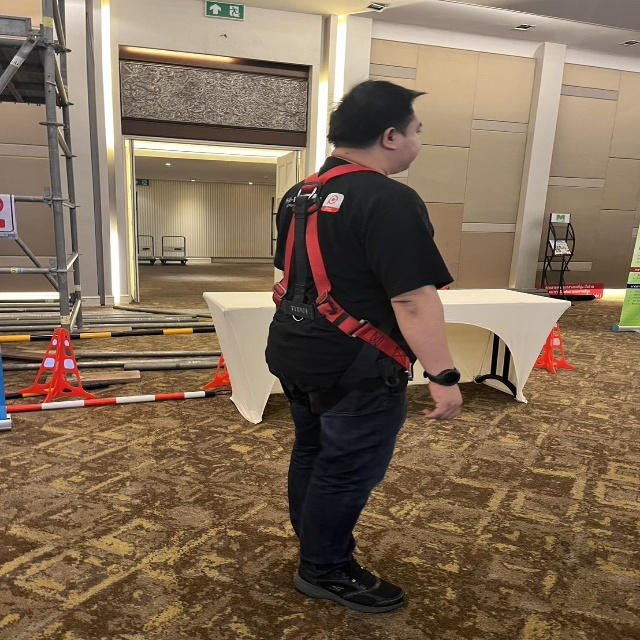Arnes_seguridad: (266, 158, 421, 391)
